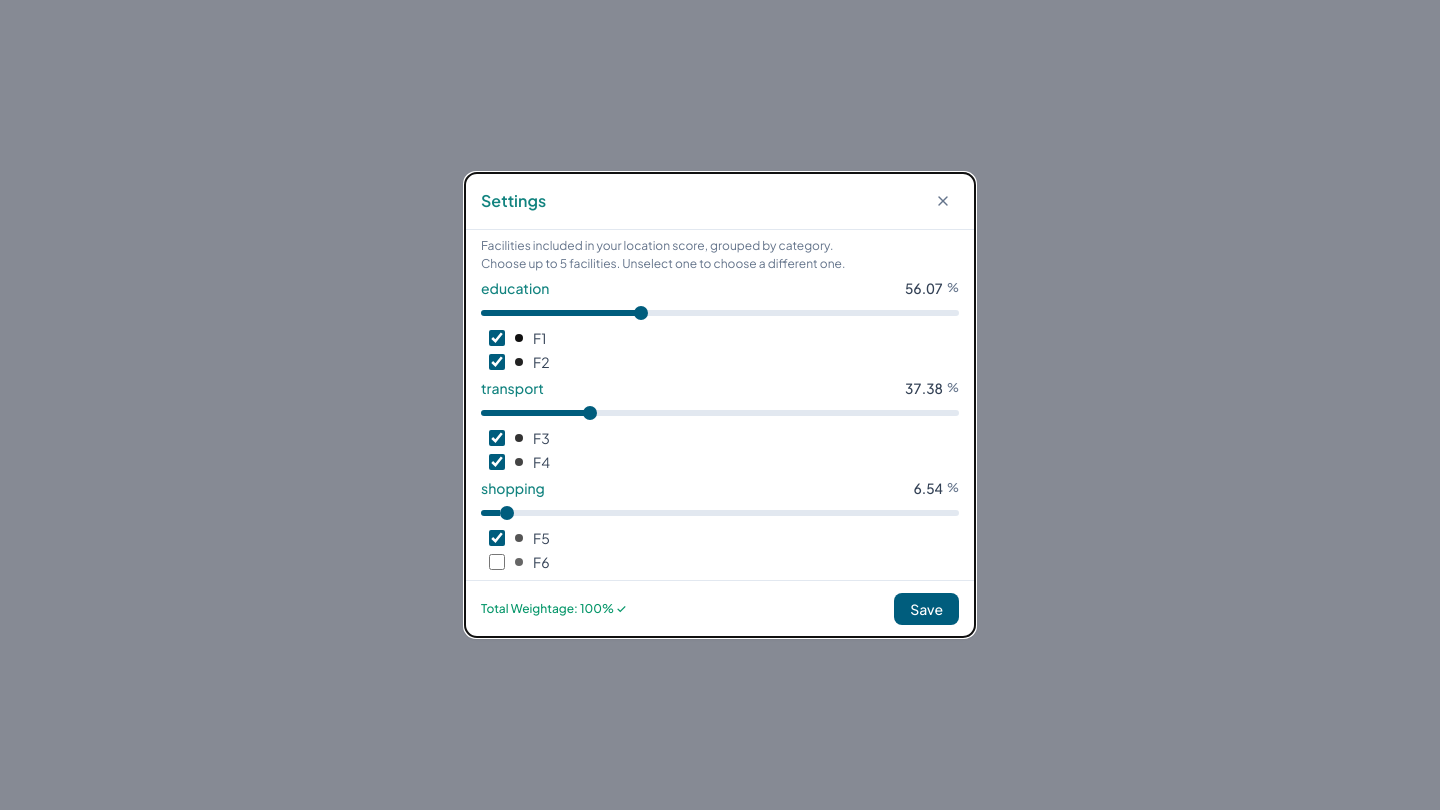
Test: SettingsModal › Selecting facilities › blocks a 6th selection and shows a help text explaining the limit
The width and height of the screenshot is (1440, 810).
Click the checkbox labelled "F6". click: {"x": 497, "y": 562}
box: [489,554,505,570]
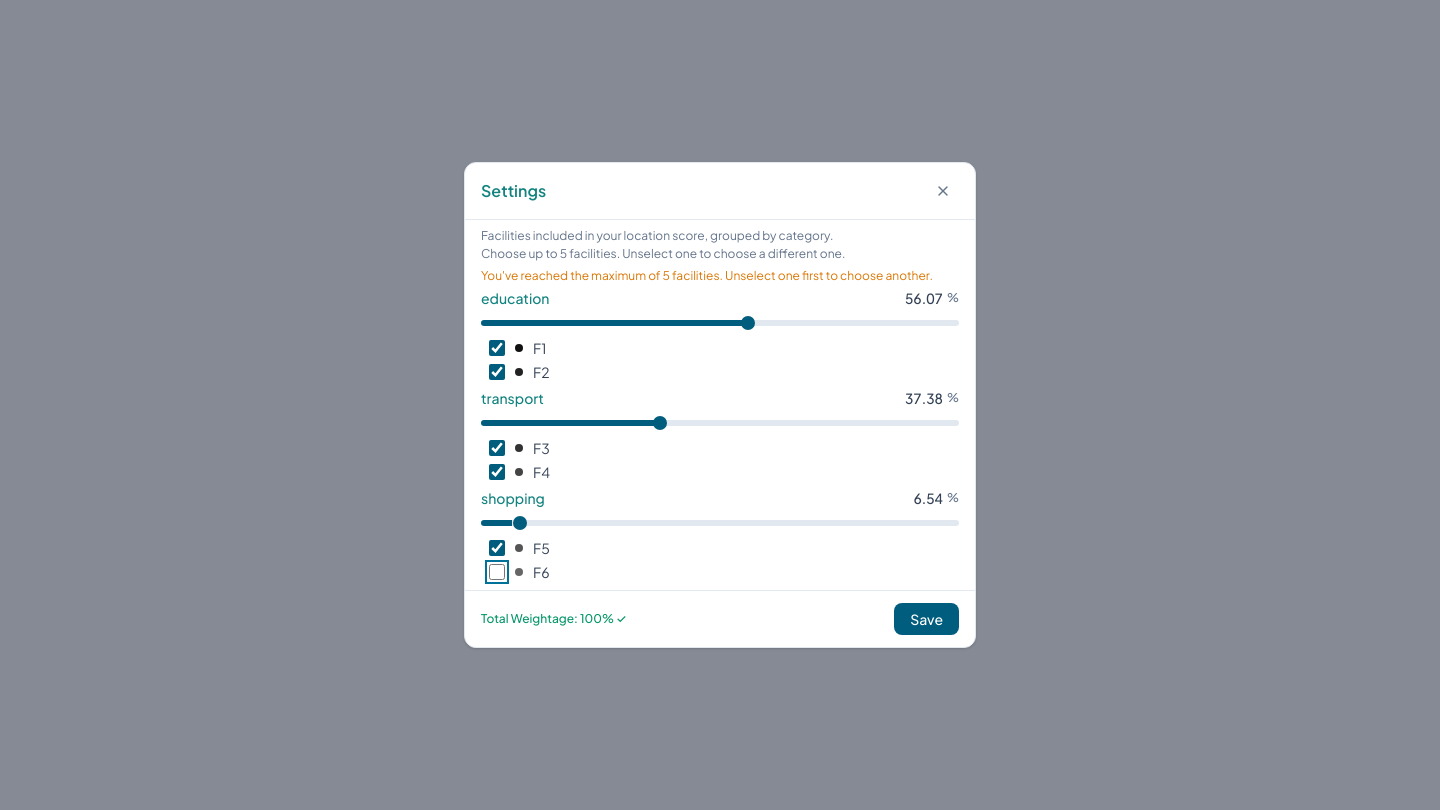
Expected: the checkbox labelled "F6" is not checked, [489,564,505,580]
Expected: the text "You've reached the maximum of 5 facilities. Unselect one first to choose another." is shown, [481,268,933,283]
